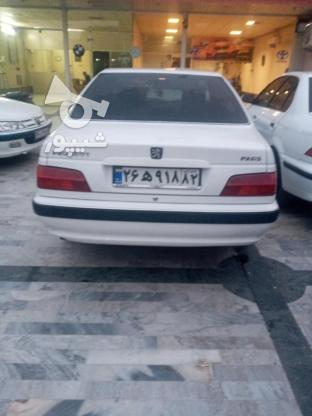car: (112, 165, 201, 188)
